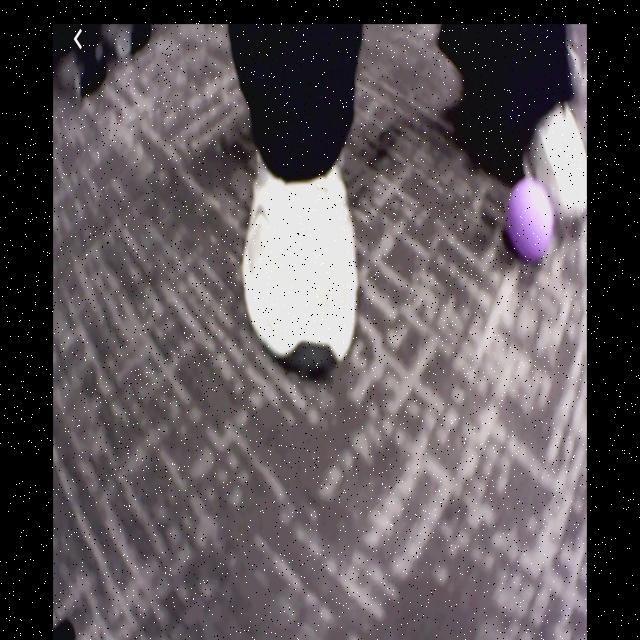ball: (507, 177, 554, 259)
